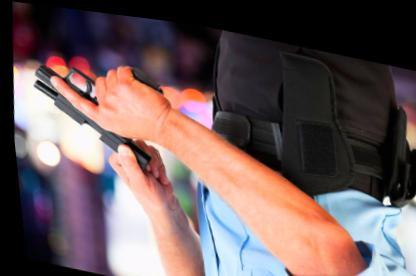pistol: (23, 43, 172, 174)
